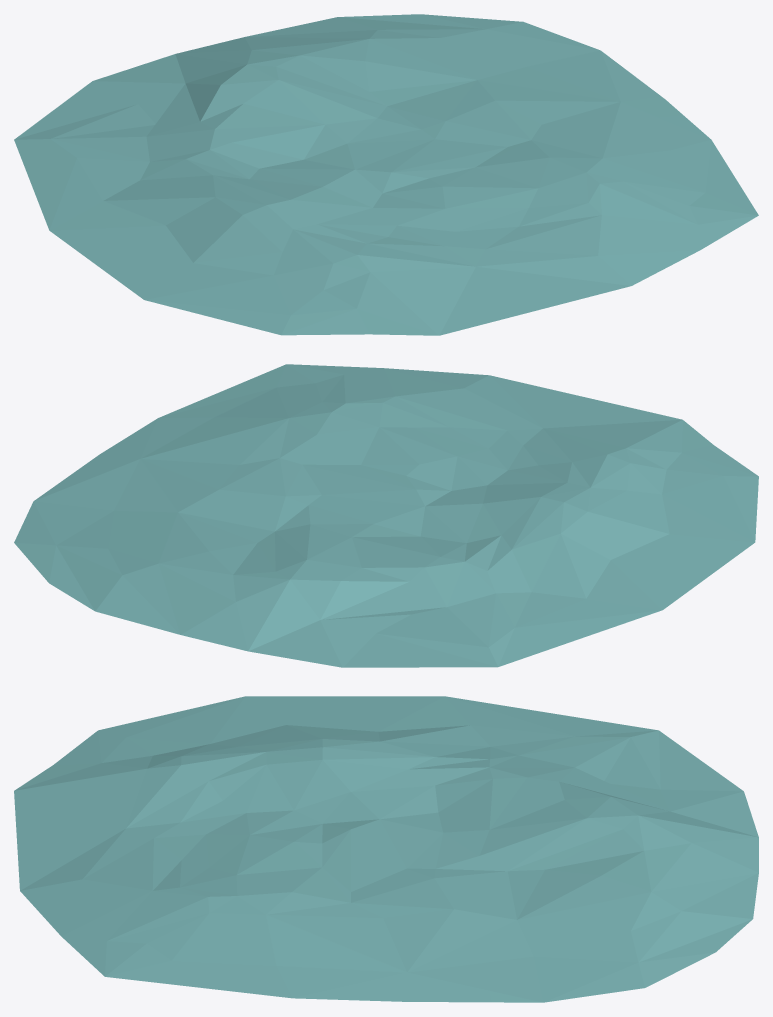
File: SM_Generic_Ground_Dirt_01.fbx
3 views of the same model, one above another, from view 1: azimuth 30°, elevation 25°; view 2: azimuth 150°, elevation 25°; view 3: azimuth 270°, elevation 25° (orthographic). The views are drawn at different scales.
Parts seen in each view (by area): view 1: SM_Generic_Ground_Dirt_01; view 2: SM_Generic_Ground_Dirt_01; view 3: SM_Generic_Ground_Dirt_01.
Boxes of the visible parts, x1=… form: SM_Generic_Ground_Dirt_01: x1=14, y1=14, x2=758, y2=335; SM_Generic_Ground_Dirt_01: x1=14, y1=364, x2=758, y2=667; SM_Generic_Ground_Dirt_01: x1=14, y1=696, x2=758, y2=1002.
Size of the model in its own units: 5.53 by 0.2575 by 5.68.
Materials: 1 (1 with a texture image).
